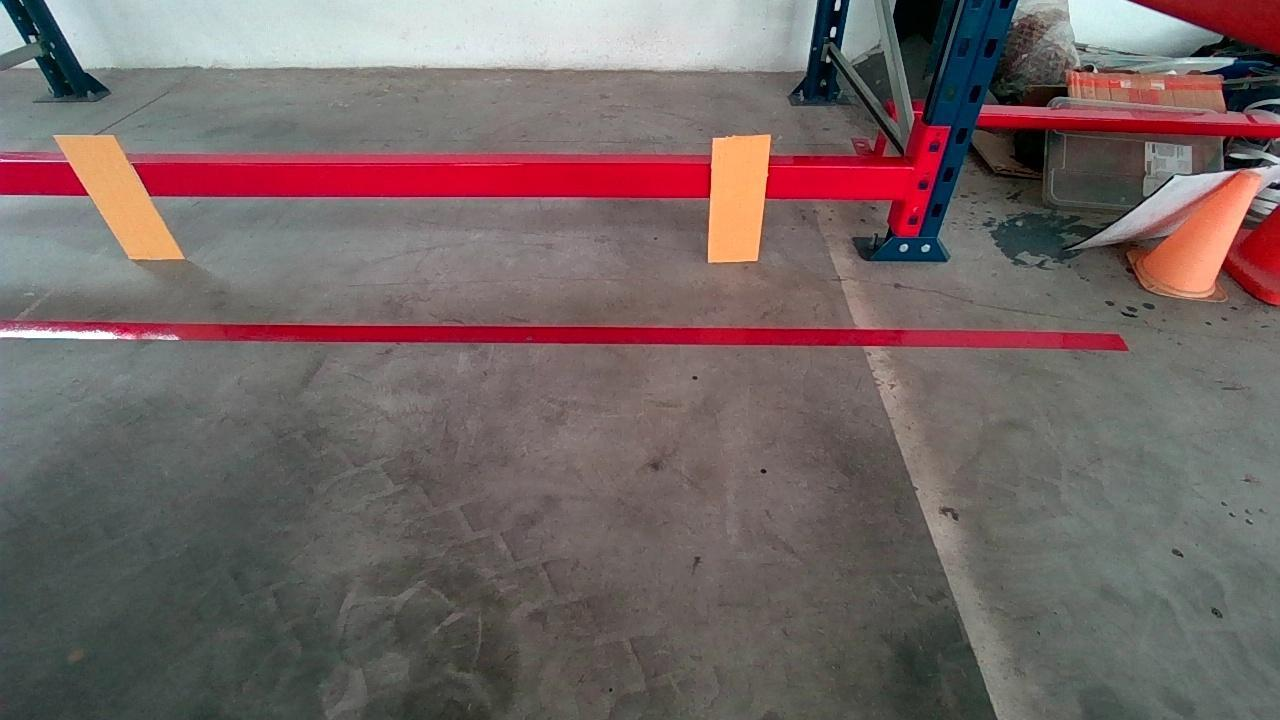h_rack: (8, 158, 909, 205)
orange_strip: (54, 134, 183, 259), (707, 134, 770, 262)
red_line: (0, 323, 1126, 348)
